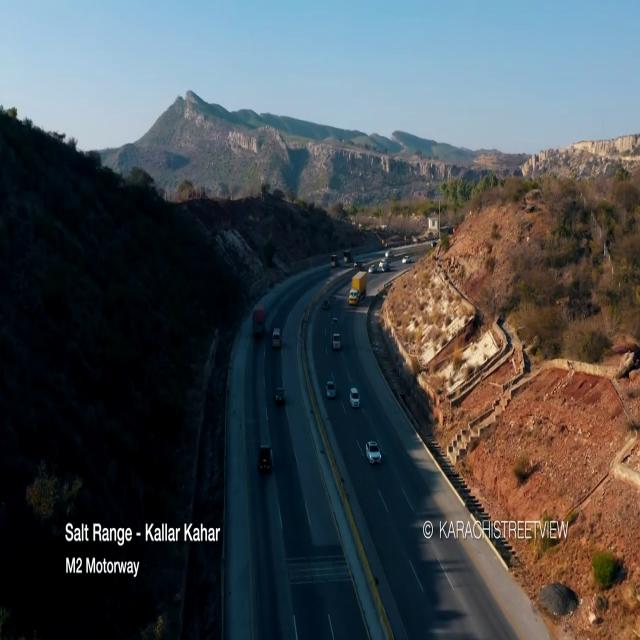car: (255, 440, 278, 474), (363, 438, 383, 467), (348, 384, 363, 412), (274, 384, 288, 413), (323, 378, 338, 402), (272, 326, 284, 352)
truck: (348, 268, 368, 310), (251, 303, 267, 341)
